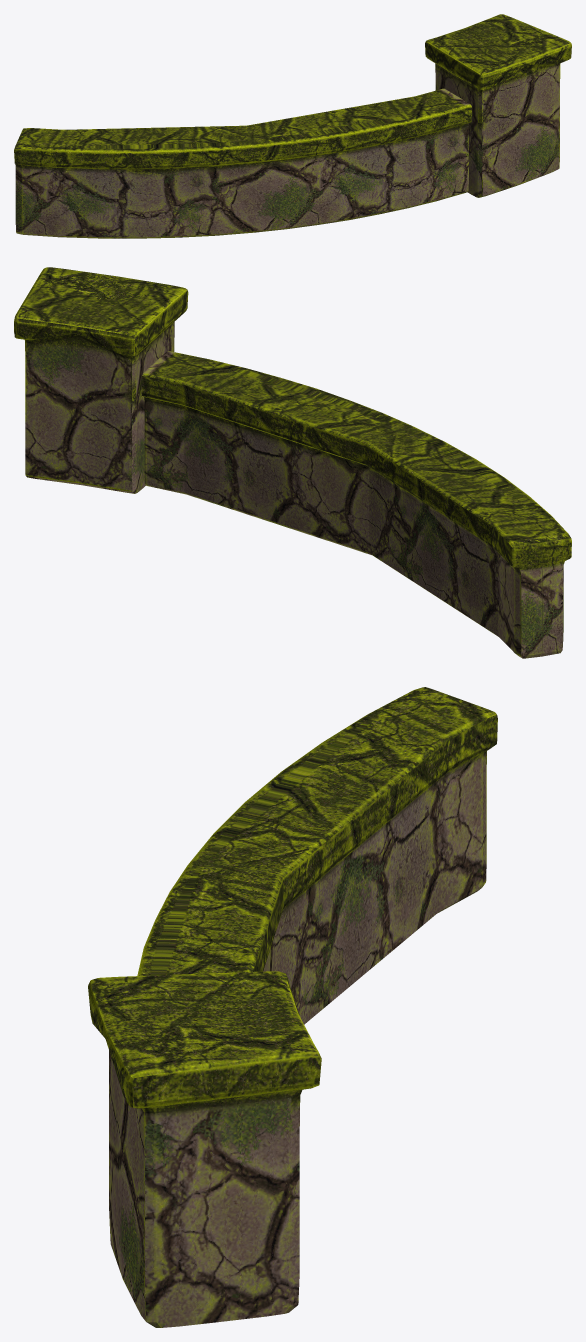
The model's file is StoneWall_Curved.fbx.
3 views of the same model, one above another, from view 1: azimuth 30°, elevation 25°; view 2: azimuth 150°, elevation 25°; view 3: azimuth 270°, elevation 25° (orthographic). The views are drawn at different scales.
Parts seen in each view (by area): view 1: CurvedStoneWall; view 2: CurvedStoneWall; view 3: CurvedStoneWall.
Part boxes in pixels (x1,y1,x2,y2): CurvedStoneWall: (14,14,571,238); CurvedStoneWall: (14,267,571,658); CurvedStoneWall: (88,687,497,1327).
Bounding box in the file's own units: 8237 × 2143 × 3015.
Materials: 1 (1 with a texture image).
